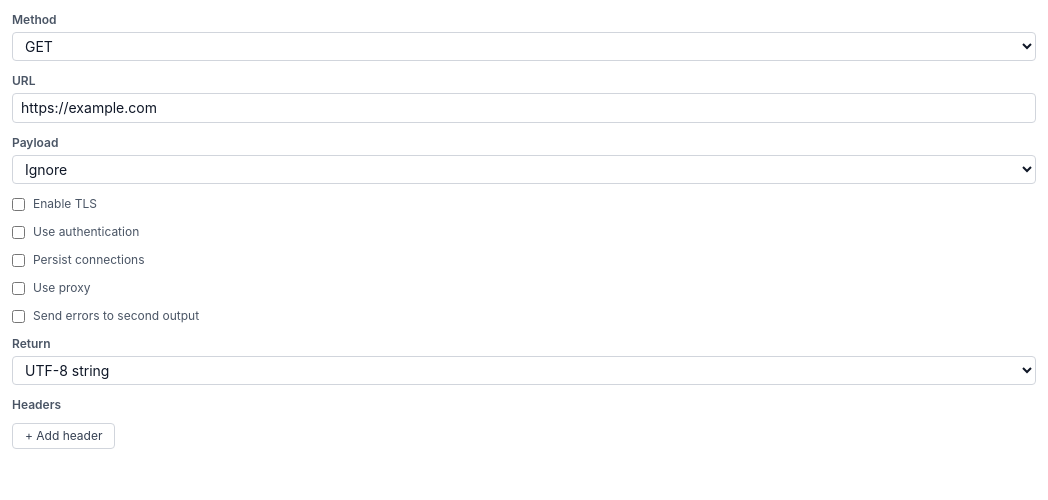
Test: HttpRequestEditor › toggles TLS section on and off
// Check the TLS checkbox
Click the checkbox with test id "httprequest-usetls" at (18, 204), box [12,198,25,210]
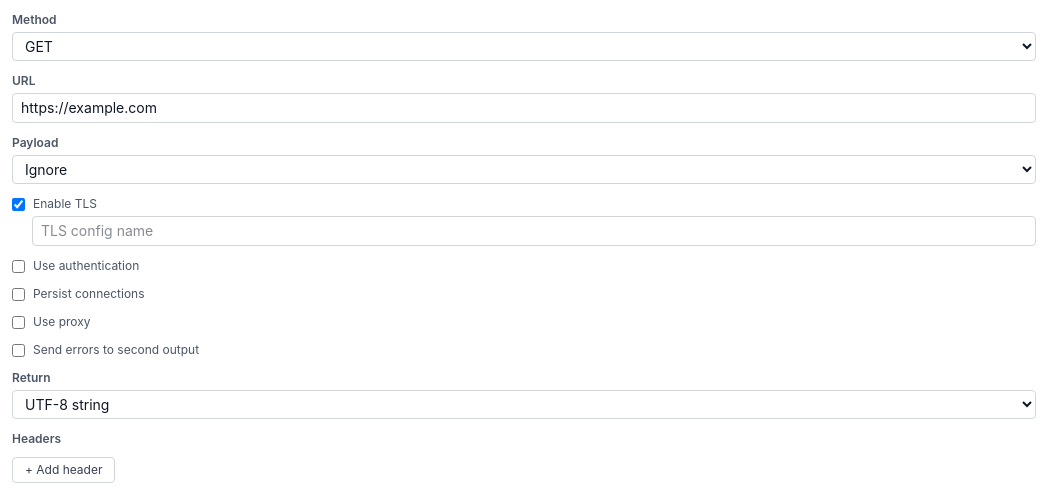
Expected: the field with test id "httprequest-tls" is shown, [32,216,1036,246]
